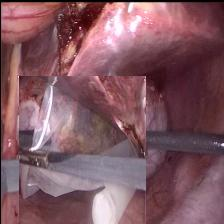Grasper: (110, 146, 148, 168)
Specimen Bag: (18, 75, 145, 224)
